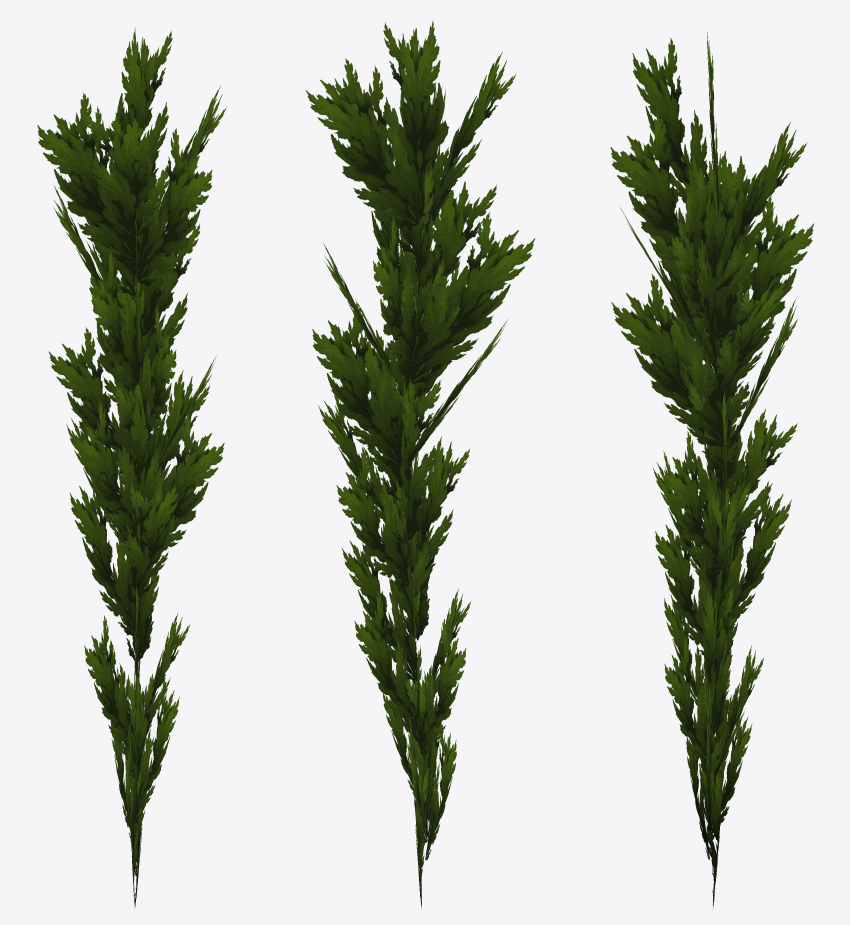
The model's file is SeaWeed05_LOD1_newsmall.glb.
3 renders of one model, left to right at view 1: azimuth 30°, elevation 25°; view 2: azimuth 150°, elevation 25°; view 3: azimuth 270°, elevation 25°, orthographic.
Parts seen in each view (by area): view 1: SeaWeed05_medium; view 2: SeaWeed05_medium; view 3: SeaWeed05_medium.
Boxes of the visible parts, bbox=[...] form: SeaWeed05_medium: bbox=[37, 27, 226, 909]; SeaWeed05_medium: bbox=[306, 20, 535, 909]; SeaWeed05_medium: bbox=[610, 32, 813, 909].
Size of the model in its own units: 0.1943 by 0.7933 by 0.2023.
Materials: 1 (1 with a texture image).
